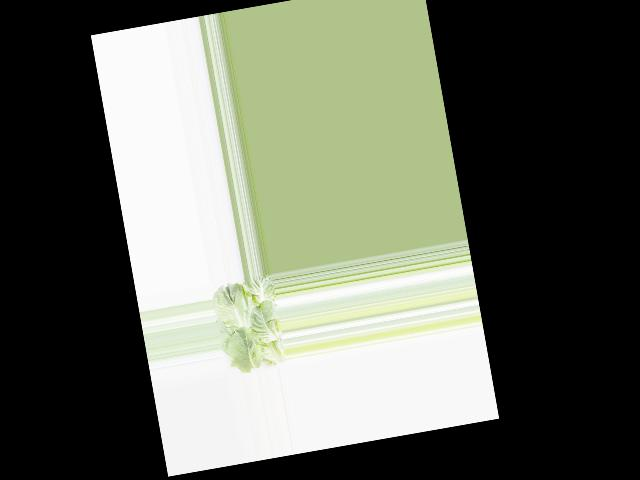lettuce: (212, 275, 288, 374)
